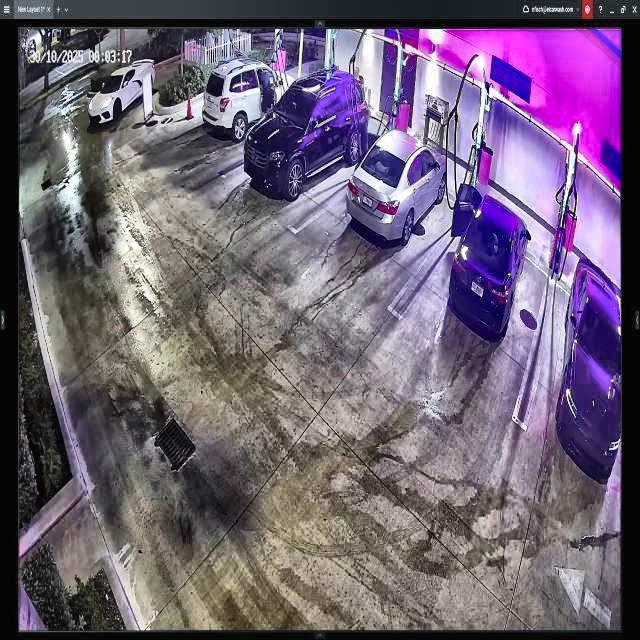Car: (244, 70, 366, 196), (448, 183, 532, 335), (345, 128, 447, 248)
